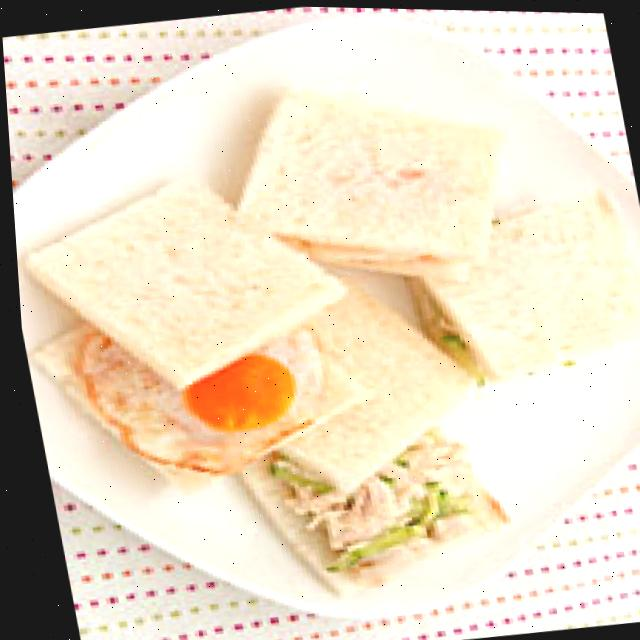三明治: (22, 55, 640, 597)
